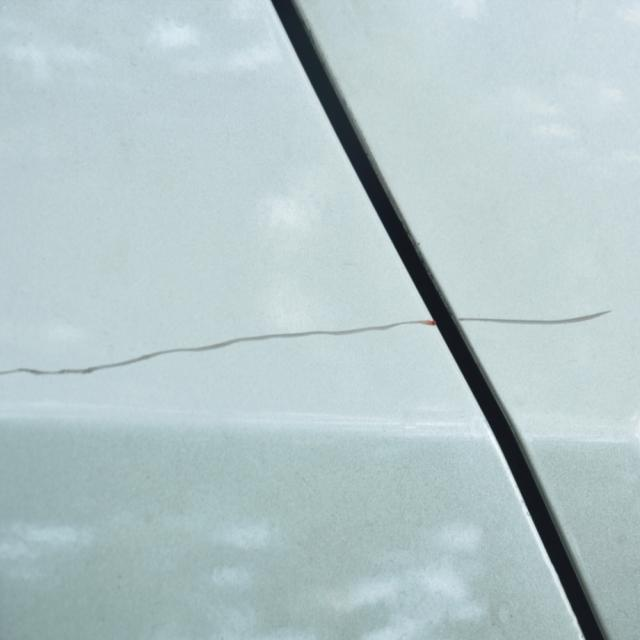scratch: (0, 317, 441, 381), (457, 307, 616, 328)
